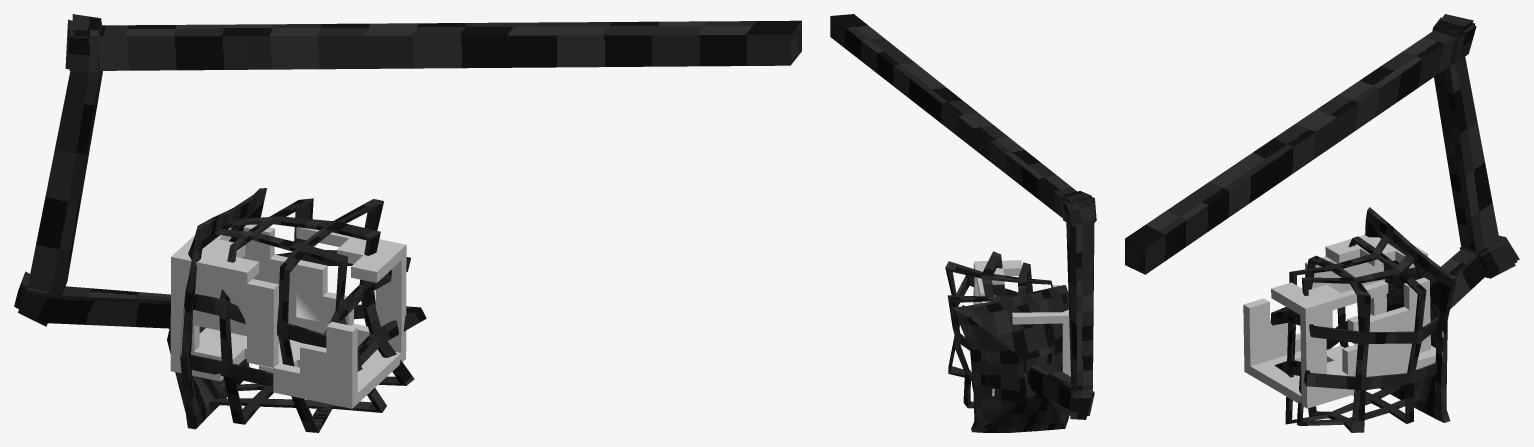
Rendered from Breakable_OutdoorLamp_B.fbx.
The picture shows the model from 3 angles, left to right: view 1: azimuth 30°, elevation 25°; view 2: azimuth 150°, elevation 25°; view 3: azimuth 270°, elevation 25°; orthographic projection. The views are drawn at different scales.
Visible parts, largest first — view 1: outdoor_lamp_NoLight, Glass_5, Glass_8, Glass_2, Glass, Glass_3, Glass_4, Glass_7, Glass_9; view 2: outdoor_lamp_NoLight, Glass_8, Glass_4; view 3: outdoor_lamp_NoLight, Glass_5, Glass_3, Glass_4, Glass, Glass_8, Glass_7, Glass_2, Glass_9.
Part boxes in pixels (box(x1,y1,x2,y2)): outdoor_lamp_NoLight: box(14, 14, 801, 432); Glass_5: box(273, 321, 388, 408); Glass_8: box(170, 227, 259, 351); Glass_2: box(194, 278, 278, 367); Glass: box(288, 260, 353, 367); Glass_3: box(352, 256, 406, 374); Glass_4: box(296, 227, 406, 282); Glass_7: box(243, 224, 300, 316); Glass_9: box(170, 328, 244, 381); outdoor_lamp_NoLight: box(830, 14, 1096, 432); Glass_8: box(1012, 309, 1070, 376); Glass_4: box(973, 260, 1022, 296); outdoor_lamp_NoLight: box(1125, 14, 1519, 432); Glass_5: box(1243, 298, 1300, 396); Glass_3: box(1287, 312, 1348, 408); Glass_4: box(1271, 280, 1388, 318); Glass: box(1327, 313, 1409, 395); Glass_8: box(1325, 235, 1427, 315); Glass_7: box(1383, 277, 1430, 361); Glass_2: box(1305, 256, 1373, 327); Glass_9: box(1347, 314, 1442, 369).
Size of the model in its own units: 171 by 109 by 116.
Materials: 2 (1 with a texture image).
